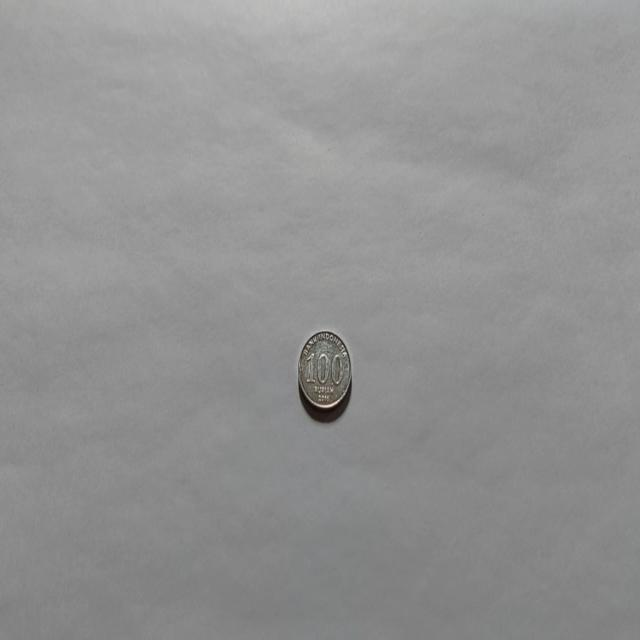seratus rupiah: (296, 328, 352, 413)
